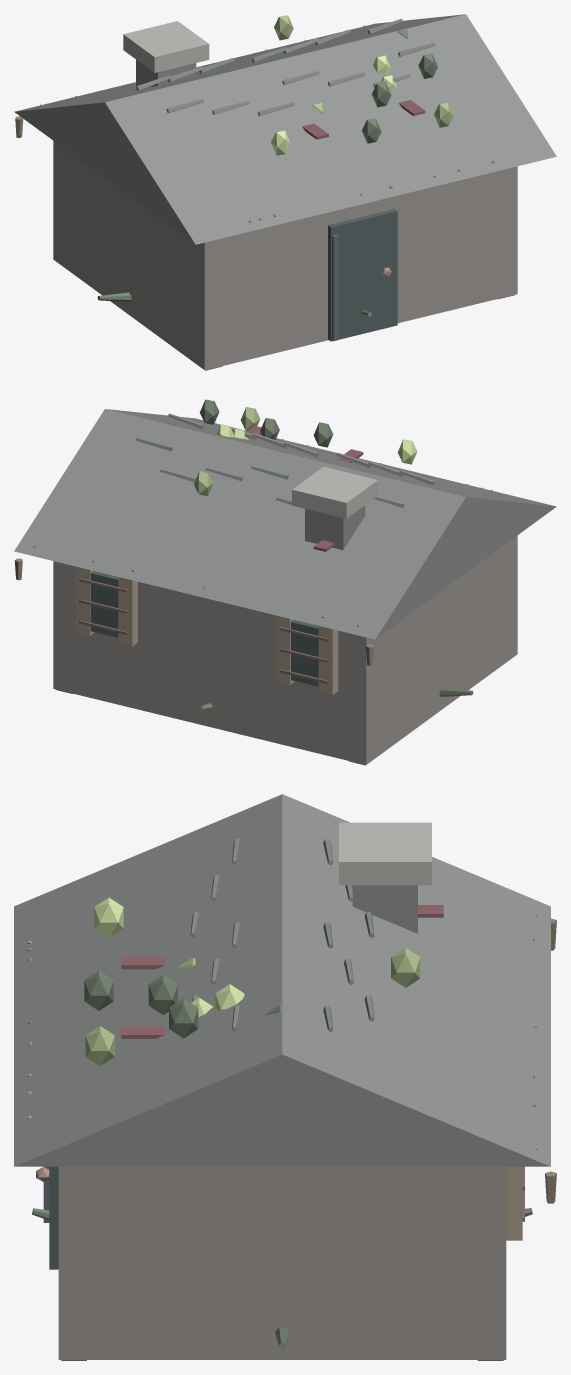
File: root_swallowed_cottage.glb
3 renders of one model, top to bottom at view 1: azimuth 30°, elevation 25°; view 2: azimuth 150°, elevation 25°; view 3: azimuth 270°, elevation 25°, orthographic. The views are drawn at different scales.
Parts seen in each view (by area): view 1: root_swallowed_cottage_material_06, root_swallowed_cottage_material_00, root_swallowed_cottage_material_02, root_swallowed_cottage_material_11, root_swallowed_cottage_material_07, root_swallowed_cottage_material_12, root_swallowed_cottage_material_14, root_swallowed_cottage_material_13, root_swallowed_cottage_material_03, root_swallowed_cottage_material_08, root_swallowed_cottage_material_09; view 2: root_swallowed_cottage_material_06, root_swallowed_cottage_material_00, root_swallowed_cottage_material_05, root_swallowed_cottage_material_11, root_swallowed_cottage_material_02, root_swallowed_cottage_material_07, root_swallowed_cottage_material_12, root_swallowed_cottage_material_01, root_swallowed_cottage_material_14, root_swallowed_cottage_material_13, root_swallowed_cottage_material_08, root_swallowed_cottage_material_09; view 3: root_swallowed_cottage_material_06, root_swallowed_cottage_material_00, root_swallowed_cottage_material_11, root_swallowed_cottage_material_12, root_swallowed_cottage_material_07, root_swallowed_cottage_material_14, root_swallowed_cottage_material_13, root_swallowed_cottage_material_09, root_swallowed_cottage_material_05, root_swallowed_cottage_material_02.
Boxes of the visible parts, x1=… form: root_swallowed_cottage_material_06: x1=14, y1=14, x2=556, y2=244; root_swallowed_cottage_material_00: x1=53, y1=141, x2=517, y2=370; root_swallowed_cottage_material_02: x1=328, y1=209, x2=397, y2=341; root_swallowed_cottage_material_11: x1=123, y1=21, x2=209, y2=72; root_swallowed_cottage_material_07: x1=40, y1=25, x2=494, y2=222; root_swallowed_cottage_material_12: x1=97, y1=29, x2=437, y2=316; root_swallowed_cottage_material_14: x1=274, y1=15, x2=453, y2=127; root_swallowed_cottage_material_13: x1=271, y1=55, x2=397, y2=155; root_swallowed_cottage_material_03: x1=332, y1=234, x2=338, y2=340; root_swallowed_cottage_material_08: x1=199, y1=18, x2=402, y2=73; root_swallowed_cottage_material_09: x1=302, y1=100, x2=425, y2=139; root_swallowed_cottage_material_06: x1=14, y1=409, x2=556, y2=639; root_swallowed_cottage_material_00: x1=53, y1=535, x2=517, y2=764; root_swallowed_cottage_material_05: x1=75, y1=566, x2=338, y2=695; root_swallowed_cottage_material_11: x1=292, y1=466, x2=377, y2=518; root_swallowed_cottage_material_02: x1=90, y1=571, x2=318, y2=686; root_swallowed_cottage_material_07: x1=33, y1=413, x2=493, y2=626; root_swallowed_cottage_material_12: x1=165, y1=399, x2=473, y2=711; root_swallowed_cottage_material_01: x1=55, y1=578, x2=365, y2=765; root_swallowed_cottage_material_14: x1=194, y1=407, x2=319, y2=496; root_swallowed_cottage_material_13: x1=216, y1=424, x2=417, y2=464; root_swallowed_cottage_material_08: x1=135, y1=437, x2=304, y2=508; root_swallowed_cottage_material_09: x1=246, y1=425, x2=363, y2=551; root_swallowed_cottage_material_06: x1=14, y1=794, x2=550, y2=1166; root_swallowed_cottage_material_00: x1=58, y1=1166, x2=506, y2=1359; root_swallowed_cottage_material_11: x1=339, y1=822, x2=431, y2=885; root_swallowed_cottage_material_12: x1=32, y1=970, x2=532, y2=1348; root_swallowed_cottage_material_07: x1=27, y1=839, x2=537, y2=1149; root_swallowed_cottage_material_14: x1=85, y1=947, x2=420, y2=1066; root_swallowed_cottage_material_13: x1=94, y1=897, x2=244, y2=1017; root_swallowed_cottage_material_09: x1=121, y1=905, x2=443, y2=1038; root_swallowed_cottage_material_05: x1=506, y1=1166, x2=522, y2=1240; root_swallowed_cottage_material_02: x1=49, y1=1166, x2=58, y2=1269.
Size of the model in its own units: 3.71 by 2.34 by 3.16.
